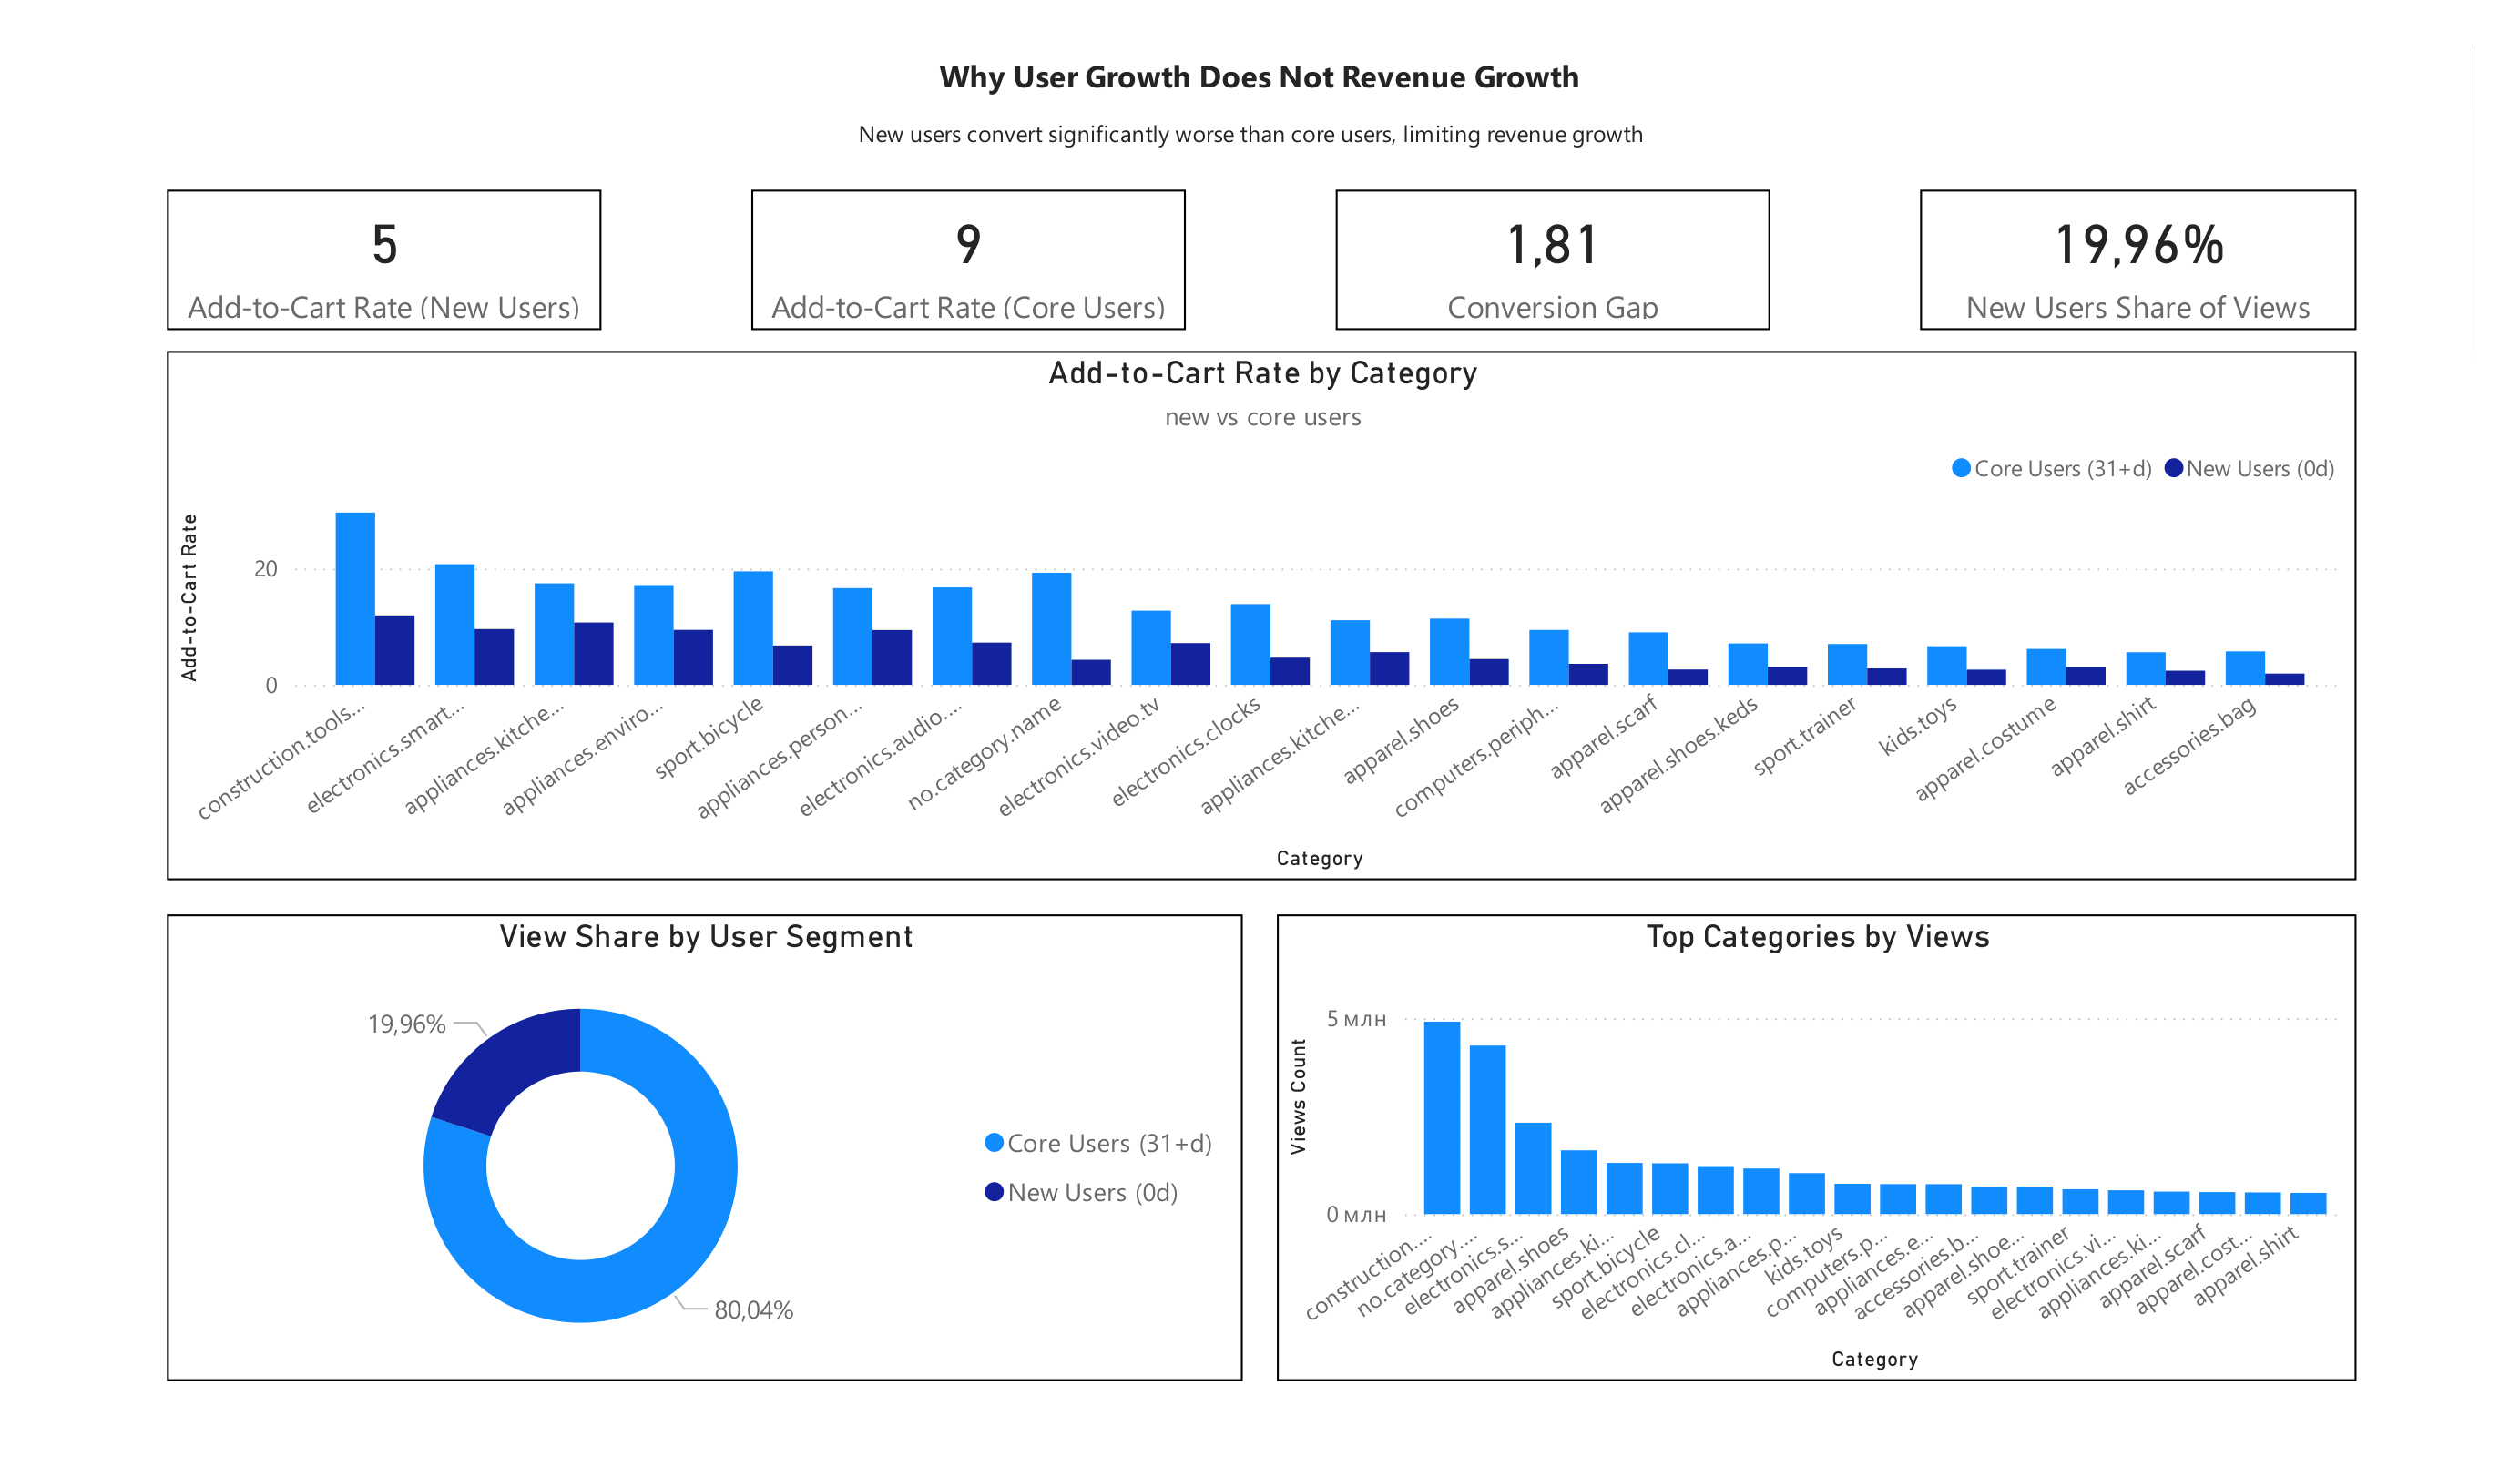

Layout of this report page (visuals, bound fields, positions):
{"tool":"powerbi","page":{"name":"Why User Growth Does Not Revenue Growth?","canvas":[1280,720],"ordinal":0},"visuals":[{"type":"textbox","box":[407.4,32.3,456.7,30.4],"z":1000},{"type":"card","fields":{"Values":["categories_cart_rate.Add-to-Cart Rate (New Users)"]},"box":[63.6,76,229.8,74.1],"z":9000},{"type":"textbox","box":[462.4,0,355.1,32.3],"z":10000},{"type":"card","fields":{"Values":["categories_cart_rate.CR корзины - ядро пользователей"]},"box":[371.6,76,229.8,74.1],"z":11000},{"type":"card","fields":{"Values":["categories_cart_rate.Разница конверсии"]},"box":[679.6,76,229.8,74.1],"z":12000},{"type":"card","fields":{"Values":["categories_cart_rate.Доля просмотров новых пользователей"]},"box":[987.5,76,230.7,74.1],"z":13000},{"type":"clusteredColumnChart","title":"Add-to-Cart Rate by Category","fields":{"Category":["categories_cart_rate.category_code"],"Series":["categories_cart_rate.user_age_segment"],"Y":["Sum(categories_cart_rate.cart_rate)"]},"box":[63.6,161.4,1154.7,278.2],"z":14000},{"type":"columnChart","title":"Top Categories by Views","fields":{"Category":["categories_cart_rate.category_code"],"Y":["Sum(categories_cart_rate.users_view)"]},"box":[649.5,457.7,568.8,245.9],"z":15000},{"type":"donutChart","title":"View Share by User Segment","fields":{"Category":["categories_cart_rate.user_age_segment"],"Y":["Sum(categories_cart_rate.users_view)"]},"box":[63.6,457.7,567.8,245.9],"z":16000}]}

Visuals, with their boxes in screenshot pixels (x1, y1, x2, y2):
textbox: select_region(809, 113, 1664, 170)
card - categories_cart_rate.Add-to-Cart Rate (New Users): select_region(165, 195, 596, 333)
textbox: select_region(912, 53, 1576, 113)
card - categories_cart_rate.CR корзины - ядро пользователей: select_region(742, 195, 1172, 333)
card - categories_cart_rate.Разница конверсии: select_region(1319, 195, 1749, 333)
card - categories_cart_rate.Доля просмотров новых пользователей: select_region(1895, 195, 2327, 333)
"Add-to-Cart Rate by Category" clusteredColumnChart: select_region(165, 355, 2328, 876)
"Top Categories by Views" columnChart: select_region(1262, 910, 2328, 1370)
"View Share by User Segment" donutChart: select_region(165, 910, 1229, 1370)
